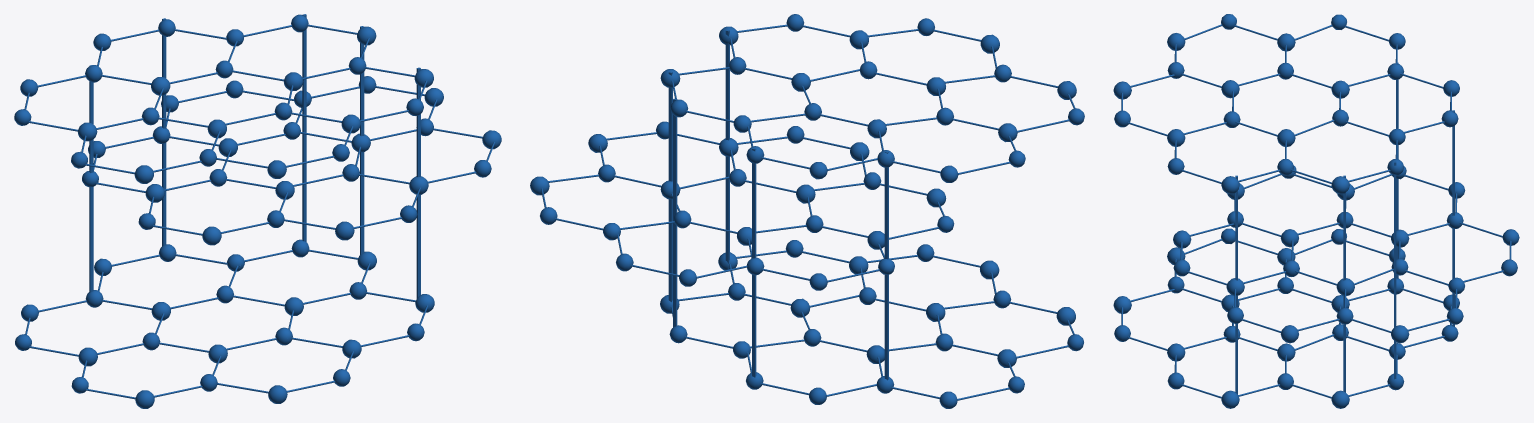
The model's file is Graphite structure 1.fbx.
3 views of the same model, side by side, from view 1: azimuth 30°, elevation 25°; view 2: azimuth 150°, elevation 25°; view 3: azimuth 270°, elevation 25° (orthographic). The views are drawn at different scales.
Parts seen in each view (by area): view 1: Graphite_structure; view 2: Graphite_structure; view 3: Graphite_structure.
Boxes of the visible parts, x1,y1,x2,y2 form: Graphite_structure: [14, 14, 501, 408]; Graphite_structure: [530, 14, 1084, 408]; Graphite_structure: [1113, 14, 1519, 408].
Bounding box in the file's own units: 190 × 96.8 × 153.
Materials: 1 (1 with a texture image).
